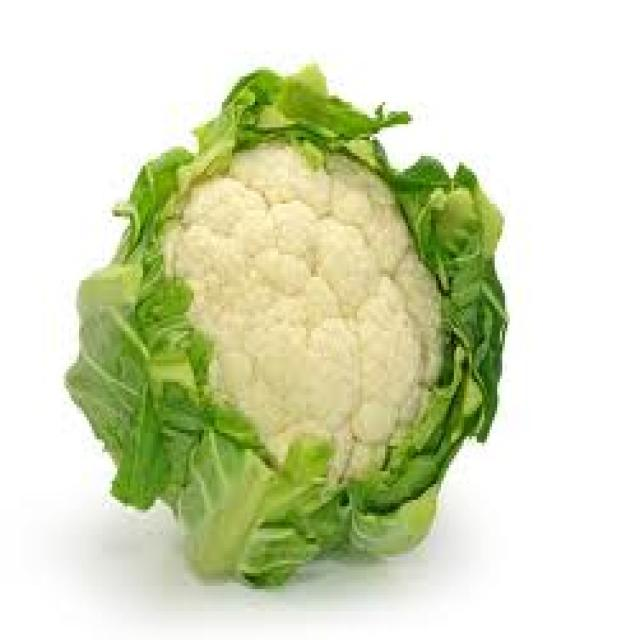cauliflower: (38, 58, 526, 612)
